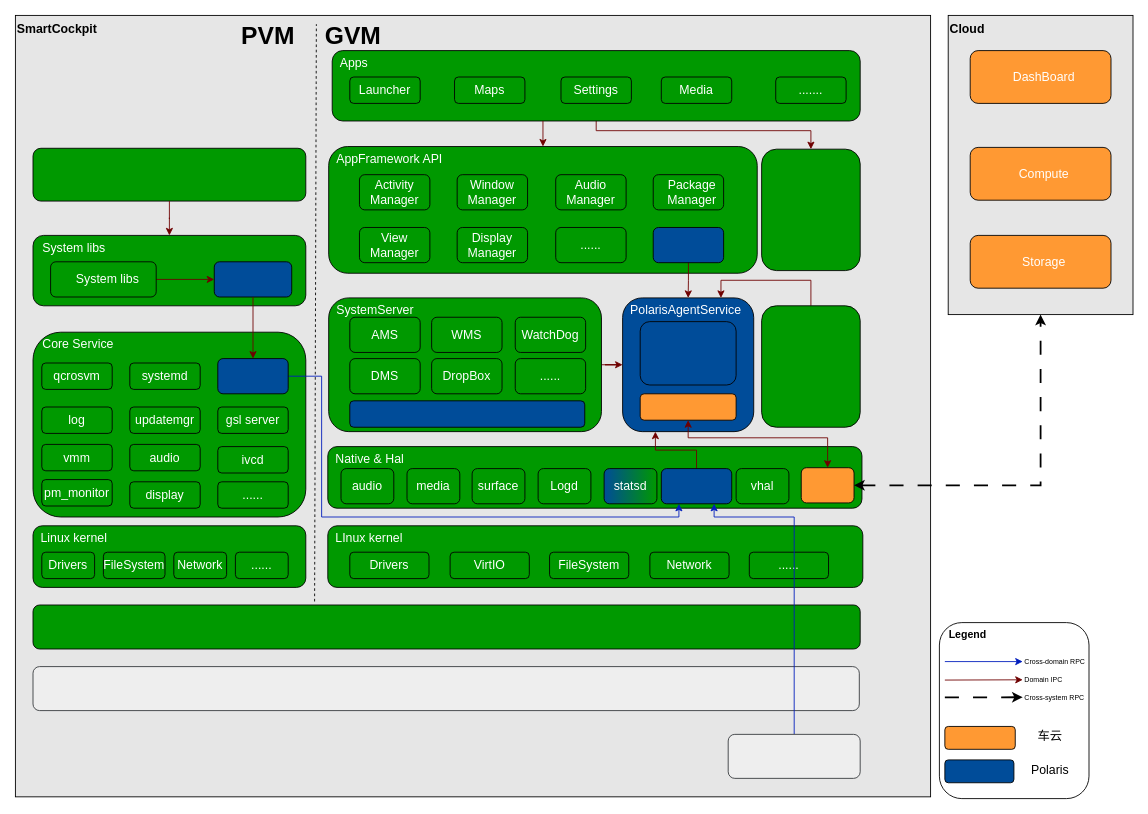
Some shapes in this 1148 by 814 pixel diagram are drawn without their labels. The centre of each missing label's shape, as x and y in pixels:
"CarAPI" goes at (810,209).
"CarService" goes at (810,366).
"Cluster" goes at (169,174).
"EventCollector ConfigManager FlowController ContextEngine DiagnoseHandler" goes at (687,353).
"Hardware" goes at (445,688).
"Host SDK" goes at (252,279).
"Hypervisor" goes at (446,626).
"MCU" goes at (793,755).
"Polaris HostDaemon" goes at (252,376).
"Polaris Native Daemon" goes at (696,486).
"Polaris SDK" goes at (688,245).
"System Internal SDK" goes at (467,413).
"VlmAgent" goes at (827,485).
"VlmAgent SDK" goes at (687,406).
